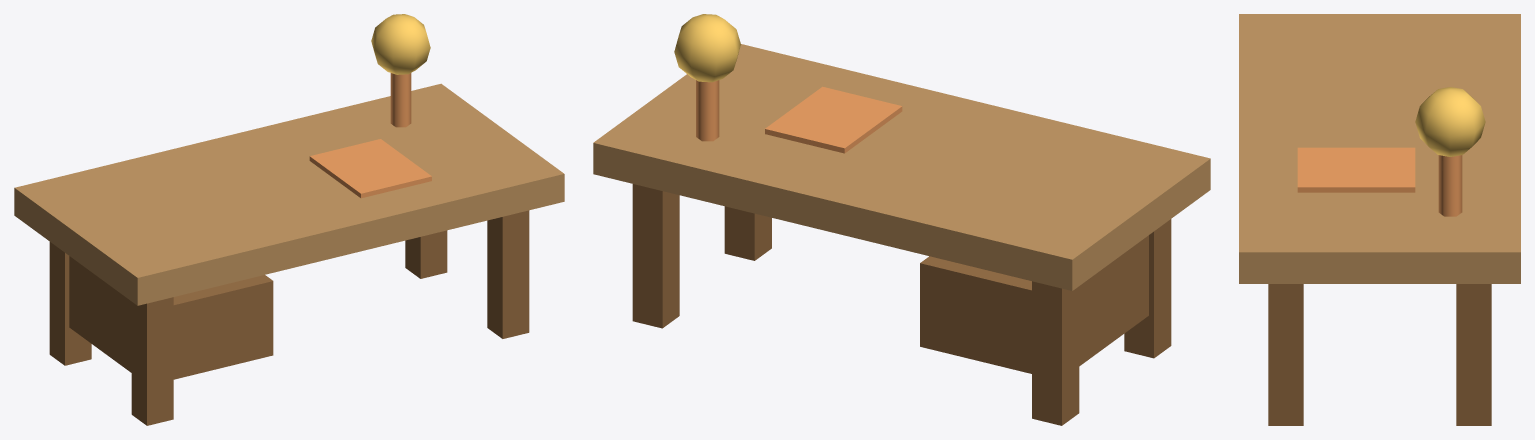
File: writing_desk.glb
3 renders of one model, left to right at view 1: azimuth 30°, elevation 25°; view 2: azimuth 150°, elevation 25°; view 3: azimuth 270°, elevation 25°, orthographic. The views are drawn at different scales.
Visible parts, largest first — view 1: writing_desk; view 2: writing_desk; view 3: writing_desk.
Part boxes in pixels (x1,y1,x2,y2): writing_desk: [14, 14, 564, 425]; writing_desk: [593, 14, 1210, 425]; writing_desk: [1239, 14, 1520, 425].
Size of the model in its own units: 48 by 29 by 24.
